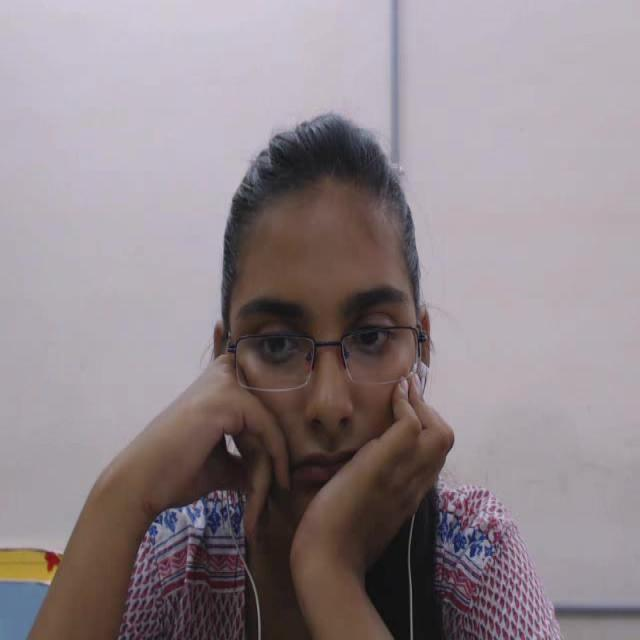Bored: (202, 72, 438, 629)
